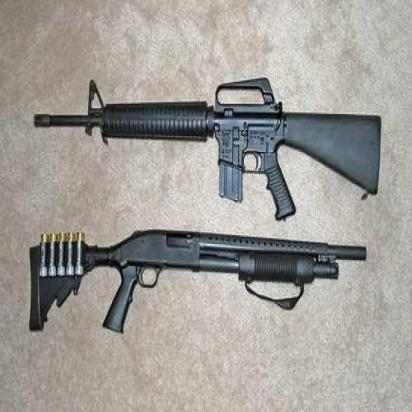Gun: (34, 75, 381, 213)
